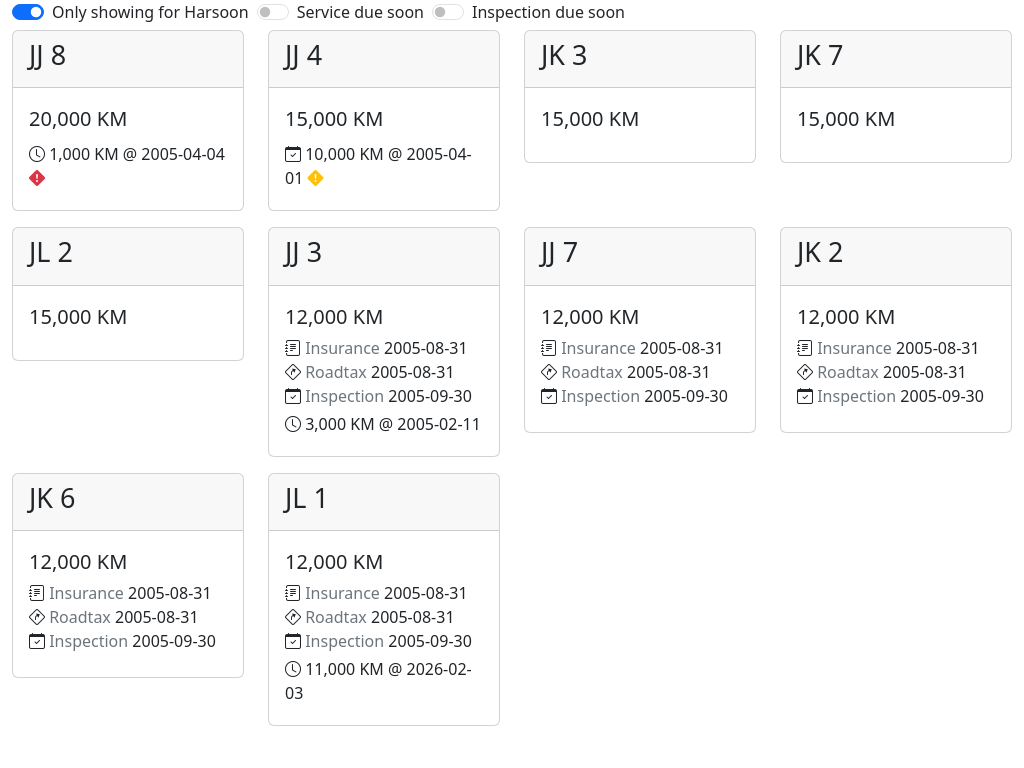
Test: render lots of vehicles, load more
// show all vehicles
Step 1. Click the text "Only showing for Harsoon" → coordinates (150, 12), box [52,0,249,24]
(page scrolled)
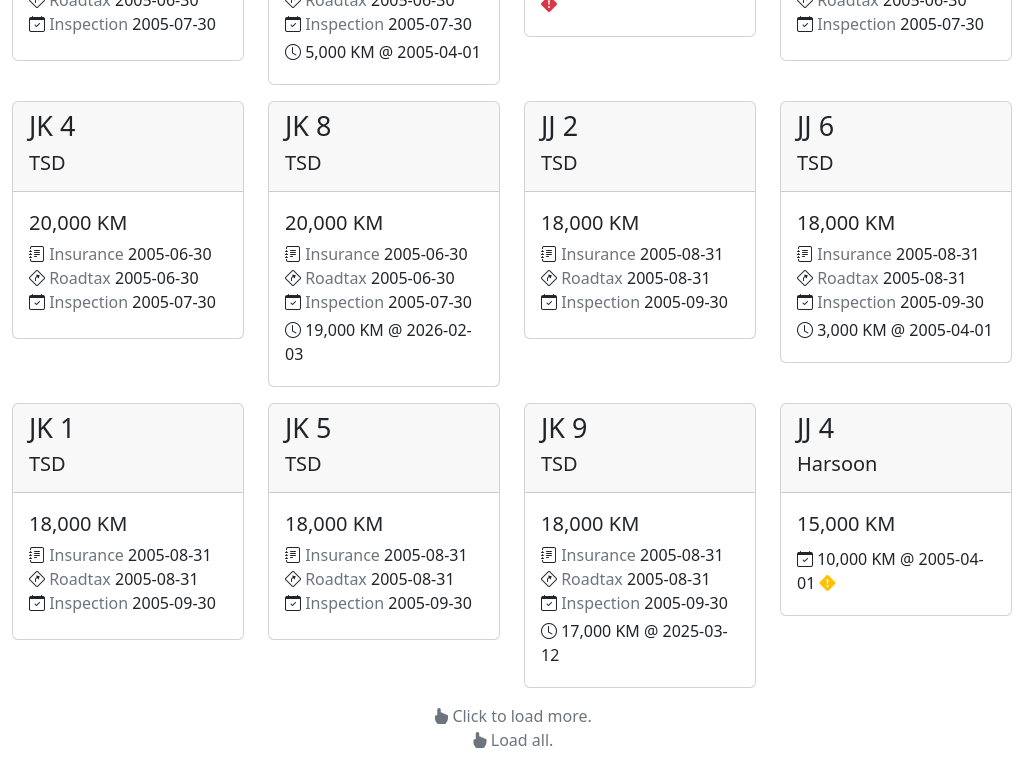
Check: the button labelled "Click to load more." is shown
Check: the button labelled "Load all." is shown, box [471,729,553,751]
Step 2. Click the button labelled "Click to load more." → coordinates (440, 716), box [432,705,592,727]
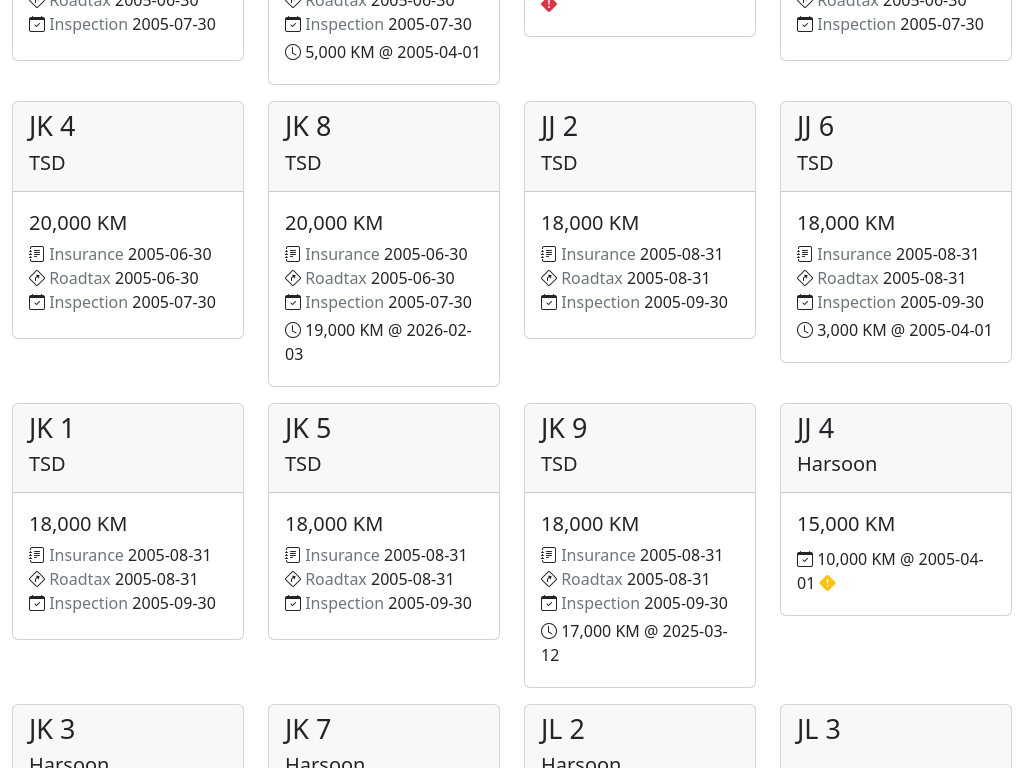
Check: the button labelled "load more" is gone
Check: the button labelled "Load all" is gone
